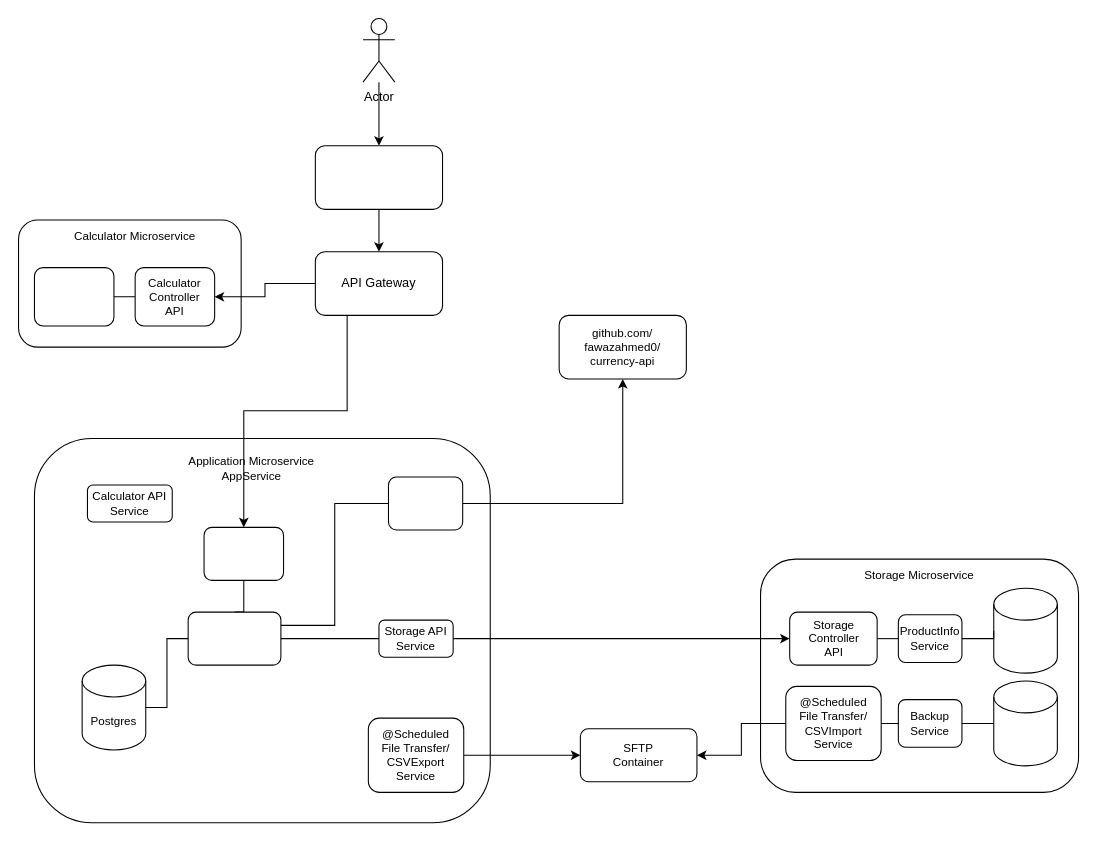
Image size: 1097x842. Some labels were removed from this diagram. The shapes that lost their labels are listed below. From the top down, each one's centre as x and y in pixels, then its label:
the point at 378,177: Frontend Angular/ Postman
the point at 73,296: Calculator Service
the point at 425,503: External Currency API
the point at 243,553: Product Controller API
the point at 234,638: Product Service
the point at 1025,630: Table1 Postgres
the point at 1025,723: Table2 Postgres
